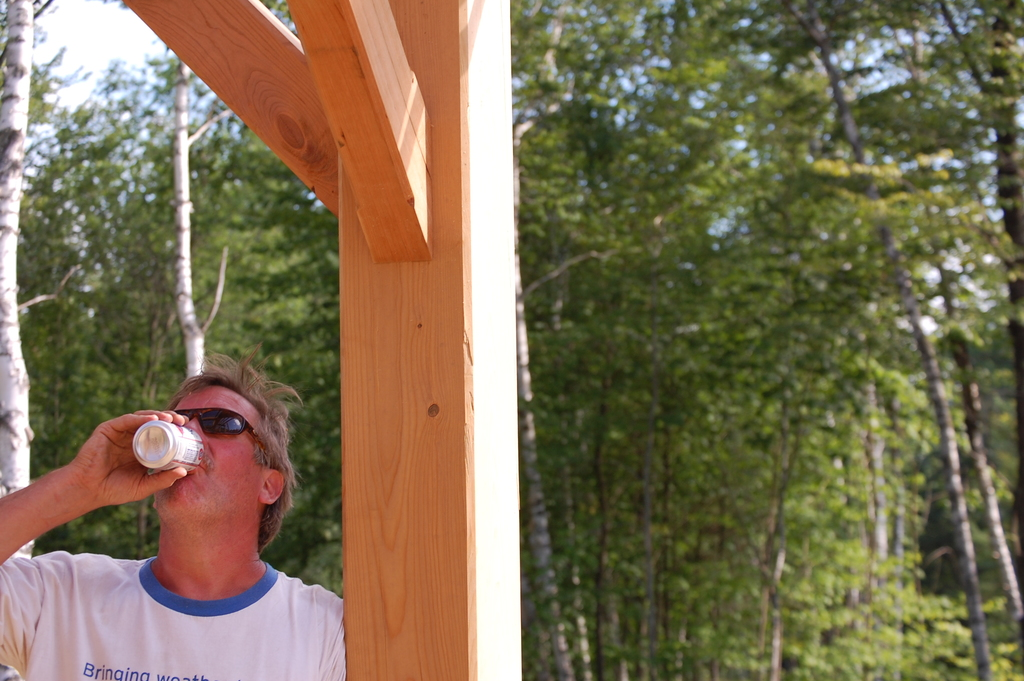Tree: (508, 0, 1023, 680), (0, 0, 337, 680)
